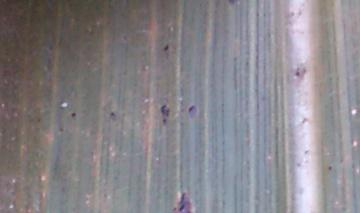tarspot: (171, 189, 192, 213), (300, 63, 309, 82), (186, 104, 198, 118), (159, 103, 170, 117), (299, 115, 310, 124), (69, 111, 78, 121), (294, 65, 300, 79), (108, 110, 117, 119), (56, 125, 66, 133), (296, 7, 304, 17), (302, 147, 310, 156), (121, 33, 129, 42), (34, 116, 42, 125), (160, 116, 167, 126), (162, 43, 169, 53), (326, 164, 334, 172), (289, 9, 295, 18), (226, 1, 236, 6)
